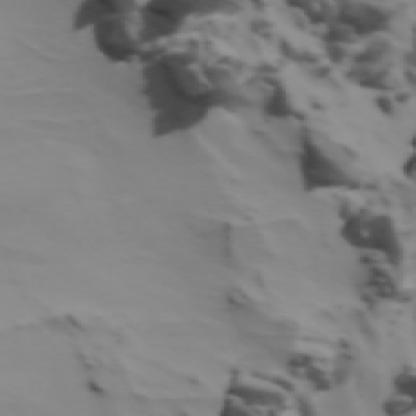polar-bear: (103, 12, 136, 53)
